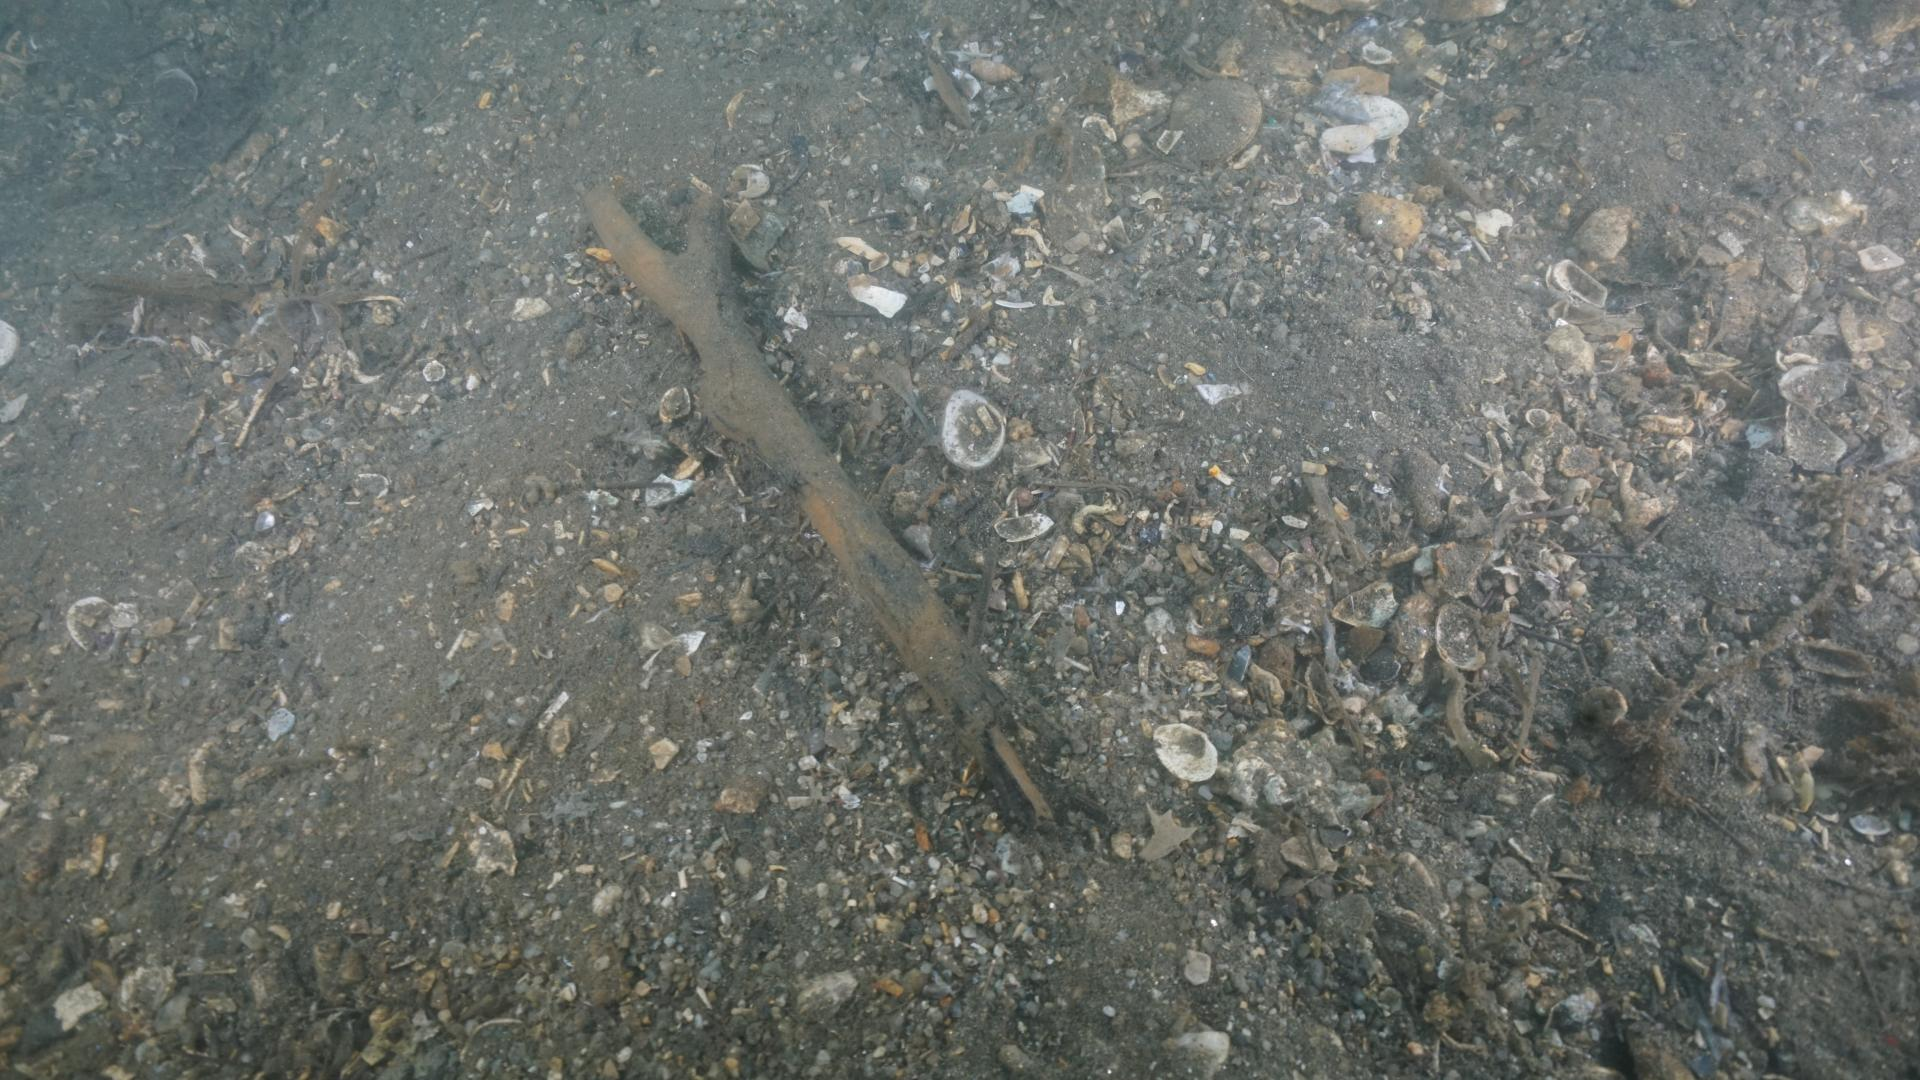wood: (578, 179, 1060, 839)
